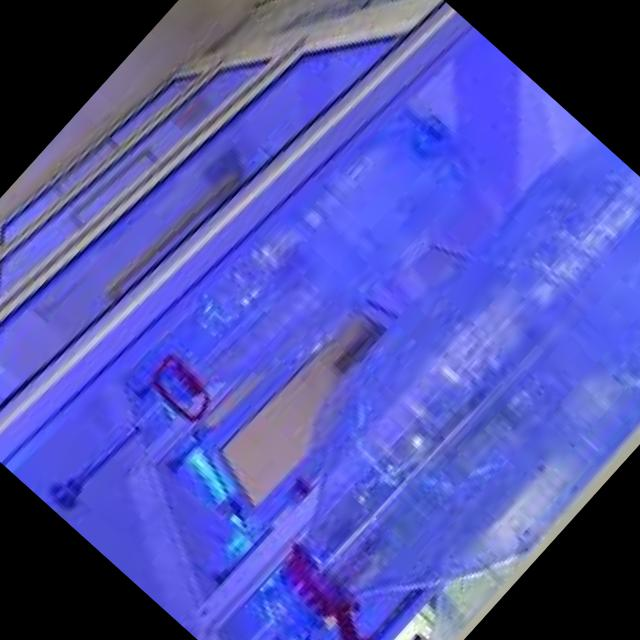Galon: (214, 115, 640, 640)
